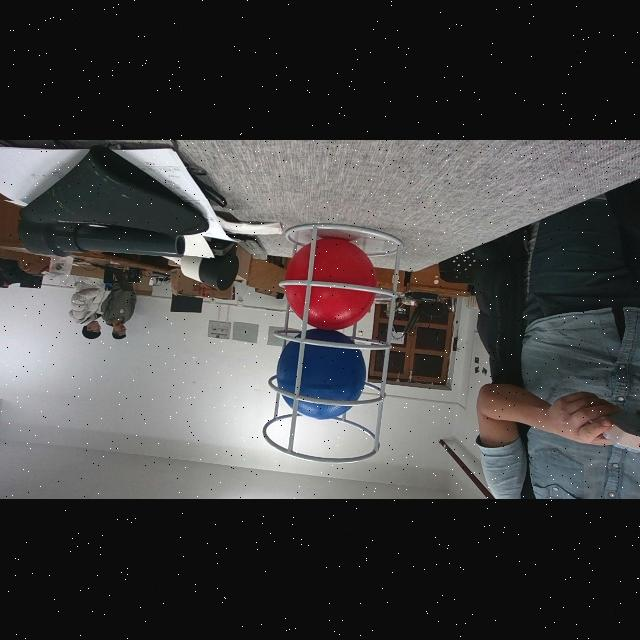B: (276, 331, 366, 422)
R: (284, 237, 376, 331)
S: (262, 224, 406, 466)
